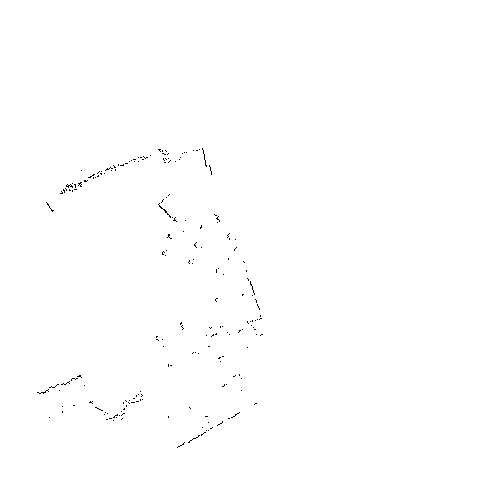pallet: (160, 218, 232, 274)
